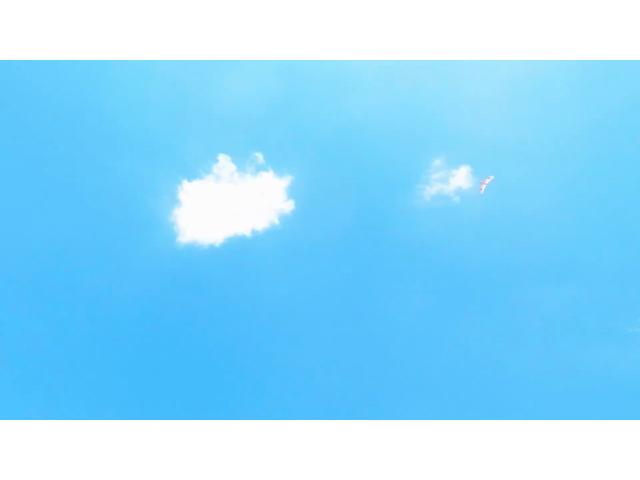Anti-Drone: (473, 159, 505, 205)
